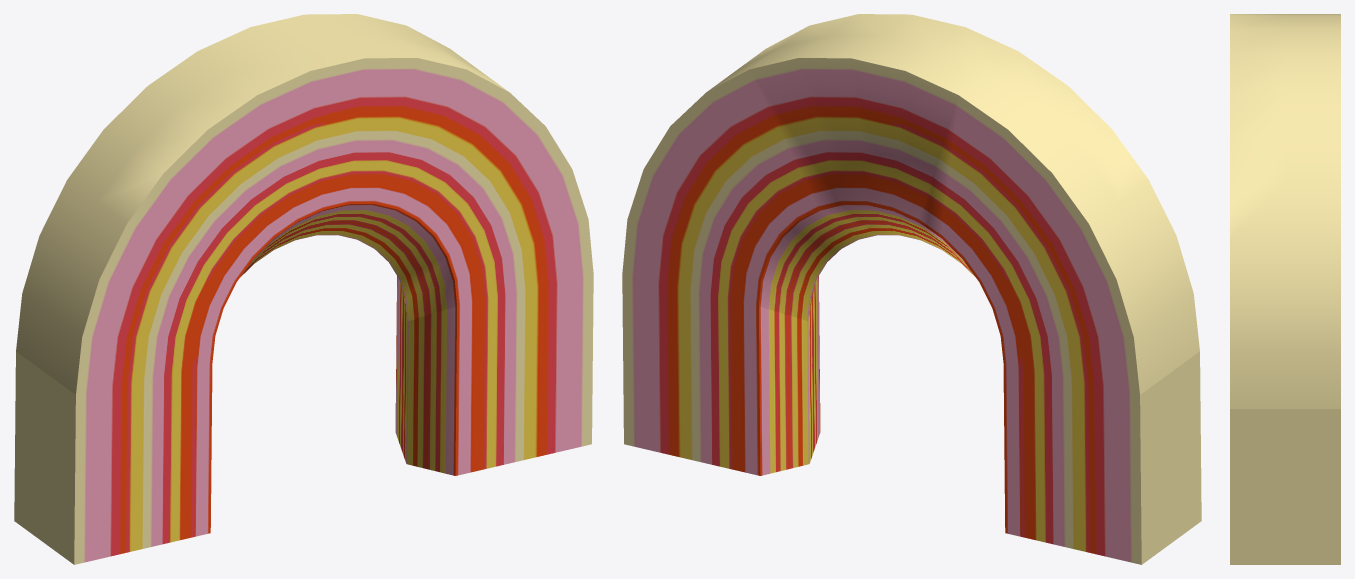
The model's file is M_arche_01.fbx.
3 renders of one model, left to right at view 1: azimuth 30°, elevation 25°; view 2: azimuth 150°, elevation 25°; view 3: azimuth 270°, elevation 25°, orthographic. The views are drawn at different scales.
Parts seen in each view (by area): view 1: Cube.006; view 2: Cube.006; view 3: Cube.006.
Part boxes in pixels (bbox=[...]): Cube.006: bbox=[14, 14, 593, 564]; Cube.006: bbox=[622, 14, 1201, 564]; Cube.006: bbox=[1230, 14, 1340, 564].
Size of the model in its own units: 459 by 377 by 91.84.
